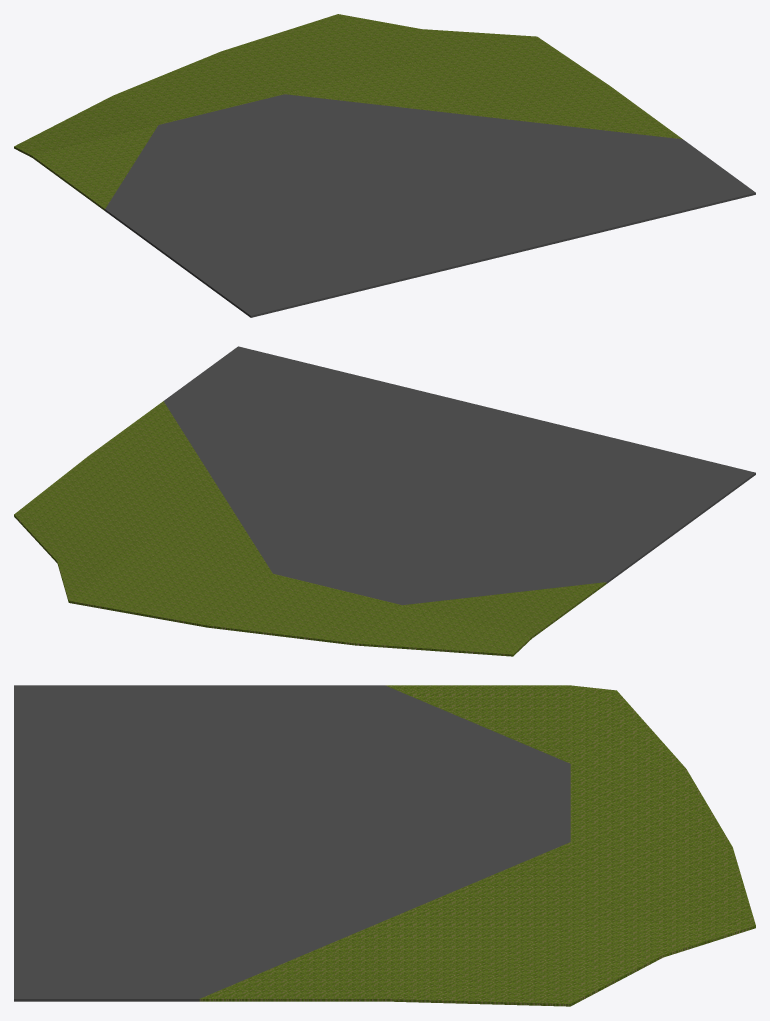
3 views of the same model, one above another, from view 1: azimuth 30°, elevation 25°; view 2: azimuth 150°, elevation 25°; view 3: azimuth 270°, elevation 25° (orthographic). The views are drawn at different scales.
Parts seen in each view (by area): view 1: b3_base_plate-col; view 2: b3_base_plate-col; view 3: b3_base_plate-col.
Part boxes in pixels (<box>): b3_base_plate-col: <box>14,14,755,317</box>; b3_base_plate-col: <box>14,346,755,656</box>; b3_base_plate-col: <box>14,685,755,1006</box>.
Bounding box in the file's own units: 256 × 2.92 × 256.
2 materials, 1 textured.
